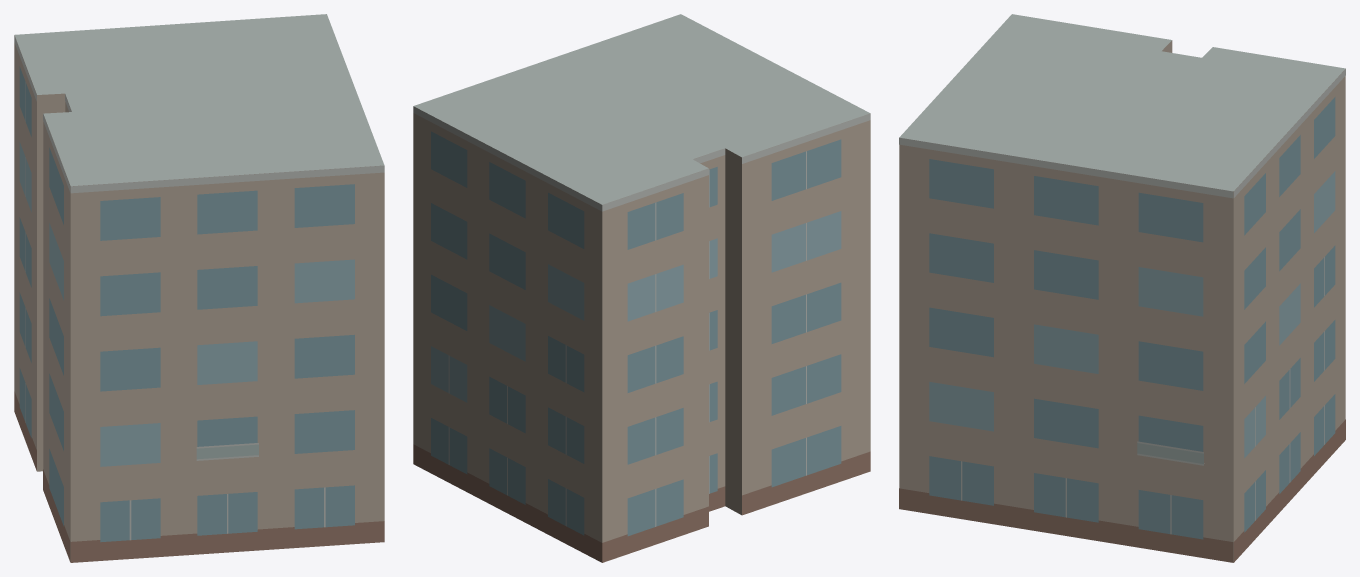
The model's file is survey-upis-32878017.glb.
The picture shows the model from 3 angles, left to right: view 1: azimuth 30°, elevation 25°; view 2: azimuth 150°, elevation 25°; view 3: azimuth 270°, elevation 25°; orthographic projection. The views are drawn at different scales.
Visible parts, largest first — view 1: survey-upis-32878017.tmp; view 2: survey-upis-32878017.tmp; view 3: survey-upis-32878017.tmp.
Part boxes in pixels (<box>): survey-upis-32878017.tmp: <box>14,14,384,562</box>; survey-upis-32878017.tmp: <box>413,14,870,562</box>; survey-upis-32878017.tmp: <box>899,14,1345,562</box>.
Bounding box in the file's own units: 13.33 × 13 × 14.18.
